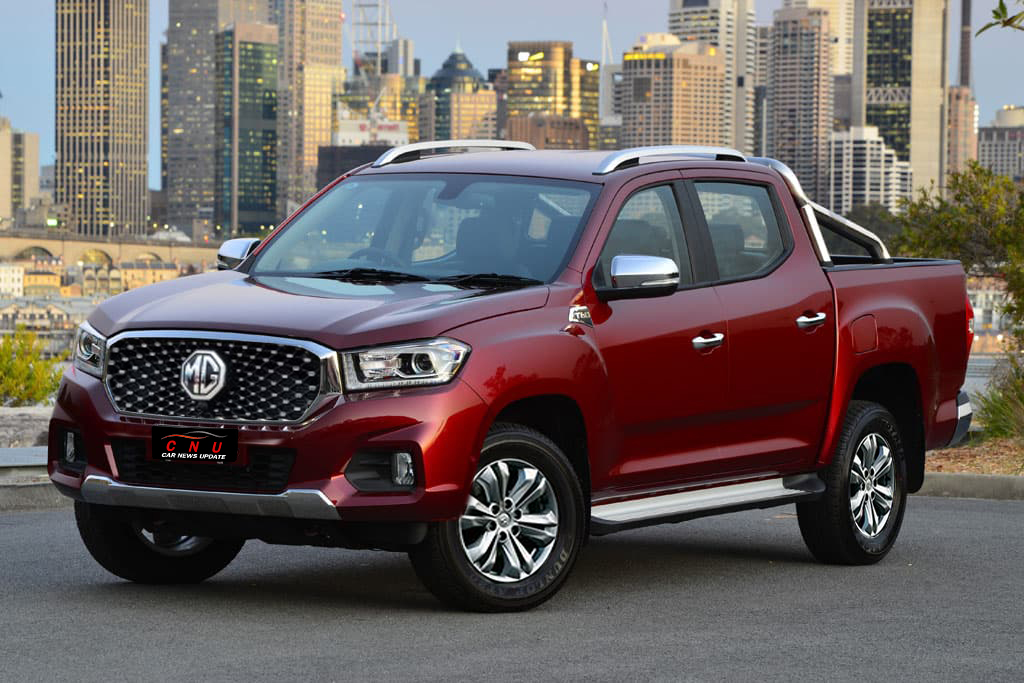pickup: (44, 136, 982, 619)
